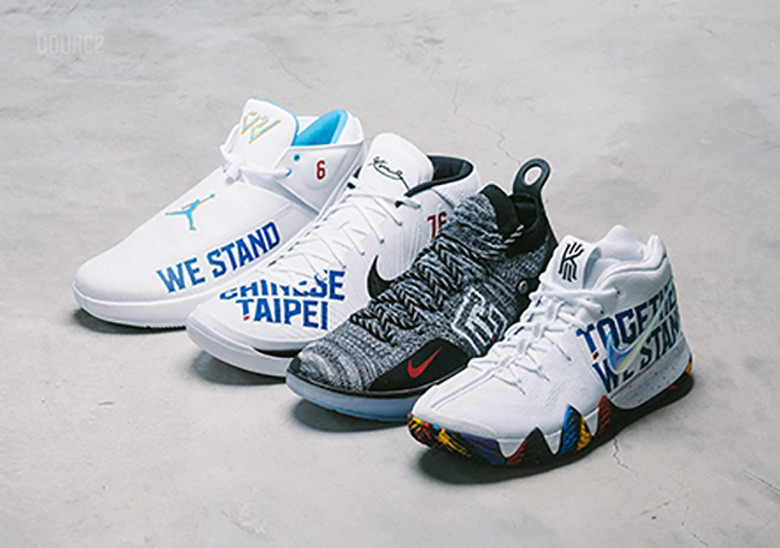nike: (404, 346, 445, 376)
